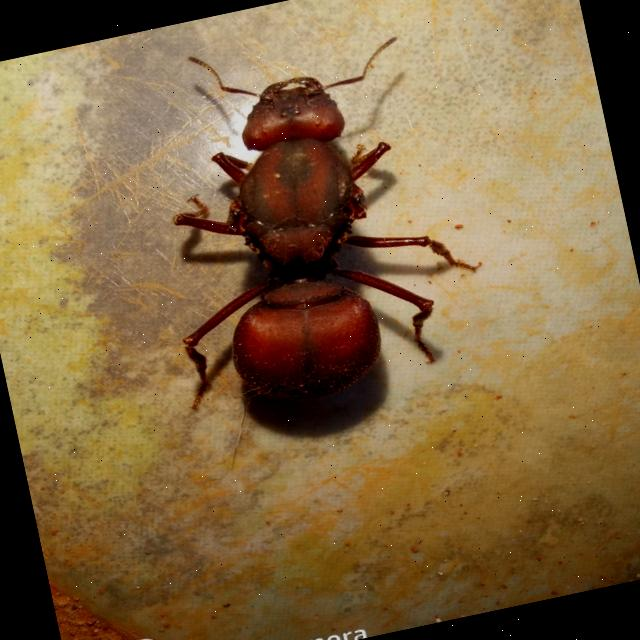Alive-Female-Dealate: (117, 6, 503, 425)
